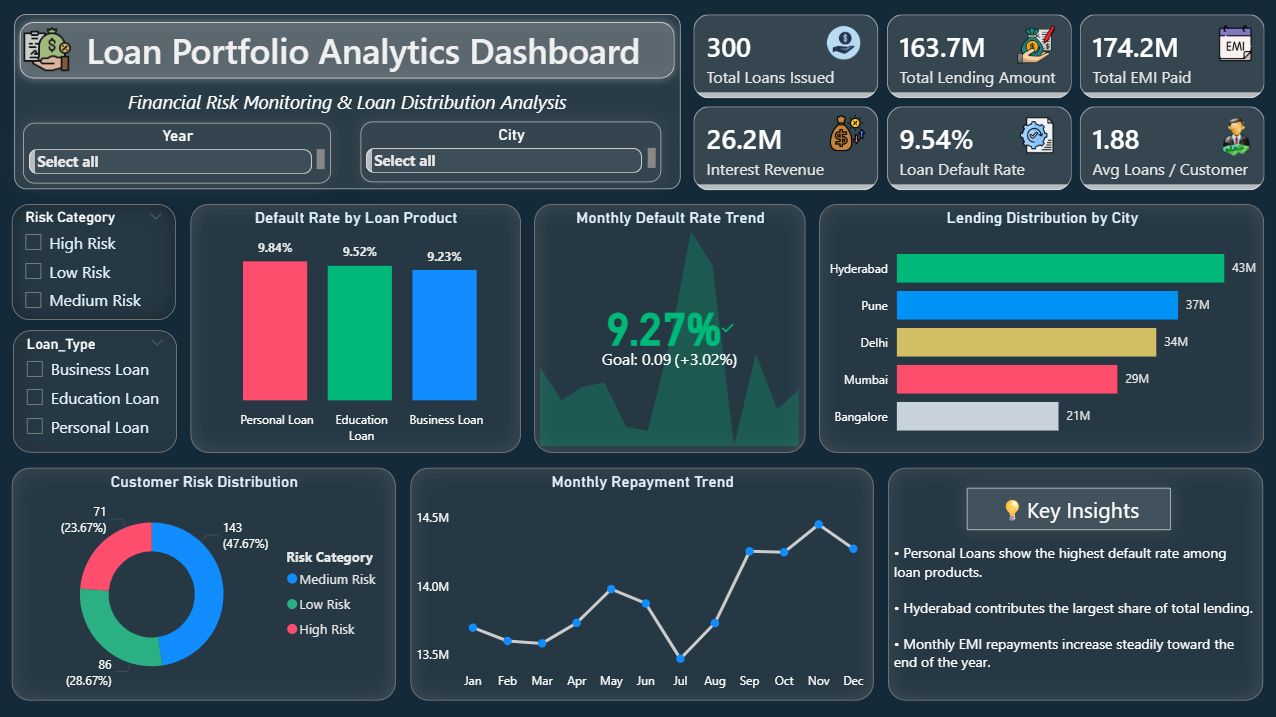

The dashboard page shown, as its layout file describes it:
{"tool":"powerbi","page":{"name":"Page 1","canvas":[1280,720],"ordinal":0},"visuals":[{"type":"shape","title":"Loan Portfolio Analytics Dashboard","box":[10.9,14.5,673,72.4],"z":0},{"type":"textbox","box":[16.2,15,666.2,175],"z":1000},{"type":"lineChart","title":"Monthly Repayment Trend","fields":{"Category":["Date_Table.Month"],"Y":["Repayments.Total EMI Paid"]},"box":[412.5,468.8,463,232.5],"z":2000},{"type":"clusteredBarChart","title":"Lending Distribution by City","fields":{"Category":["Customers.City"],"Y":["Loans.Total Loan Amount"]},"box":[821.2,205,445,248.8],"z":3000},{"type":"donutChart","title":"Customer Risk Distribution","fields":{"Category":["Customers.Risk Category"],"Y":["Loans.Total Loans"]},"box":[13.8,468.8,383.8,232.5],"z":4000},{"type":"clusteredColumnChart","title":"Default Rate by Loan Product","fields":{"Category":["Loans.Loan_Type"],"Y":["Repayments.Default Rate %"]},"box":[192.5,205,330,248.8],"z":5000},{"type":"kpi","title":"Monthly Default Rate Trend","fields":{"Indicator":["Repayments.Default Rate %"],"TrendLine":["Date_Table.Month"],"Goal":["Customers.Target Default Rate"]},"box":[536.2,205,271,248.8],"z":6000},{"type":"slicer","fields":{"Values":["Loans.Loan_Type"]},"box":[15,331.2,163.8,122.5],"z":7000},{"type":"cardVisual","fields":{"Data":["Loans.Total Loans","Loans.Total Loan Amount","Repayments.Total EMI Paid","Repayments.Total Interest","Repayments.Default Rate %","Loans.Loan Approval Rate %"]},"box":[682,2,597.2,206],"z":8000},{"type":"image","box":[821.6,25.3,48.3,37.4],"z":9000},{"type":"image","box":[1201,117,73.6,39.8],"z":10000},{"type":"image","box":[1018.2,117,39.8,37.4],"z":11000},{"type":"image","box":[821,115,56.7,38],"z":12000},{"type":"image","box":[1213.7,26.5,47.1,36.2],"z":13000},{"type":"image","box":[1006.2,26.5,63.9,38.6],"z":14000},{"type":"advancedSlicerVisual","fields":{"Values":["Date_Table.Year"]},"box":[25,123.8,308,61],"z":15000},{"type":"slicer","fields":{"Values":["Customers.Risk Category"]},"box":[13.8,205,163.8,116.2],"z":16000},{"type":"image","box":[21,6,55,87],"z":17000},{"type":"textbox","box":[890,468.8,375,232.5],"z":18000},{"type":"textbox","box":[968.8,488.8,203.8,42.5],"z":19000},{"type":"advancedSlicerVisual","fields":{"Values":["Customers.City"]},"box":[362.5,122.5,301,61],"z":20000}]}

Visuals, with their boxes in screenshot pixels (x1, y1, x2, y2), scaled from the page's 1280x720 canvas onto the 1276x717 screenshot:
"Loan Portfolio Analytics Dashboard" shape: {"x1": 11, "y1": 14, "x2": 682, "y2": 87}
textbox: {"x1": 16, "y1": 15, "x2": 680, "y2": 189}
"Monthly Repayment Trend" lineChart: {"x1": 411, "y1": 467, "x2": 873, "y2": 698}
"Lending Distribution by City" clusteredBarChart: {"x1": 819, "y1": 204, "x2": 1262, "y2": 452}
"Customer Risk Distribution" donutChart: {"x1": 14, "y1": 467, "x2": 396, "y2": 698}
"Default Rate by Loan Product" clusteredColumnChart: {"x1": 192, "y1": 204, "x2": 521, "y2": 452}
"Monthly Default Rate Trend" kpi: {"x1": 535, "y1": 204, "x2": 805, "y2": 452}
slicer - Loans.Loan_Type: {"x1": 15, "y1": 330, "x2": 178, "y2": 452}
cardVisual - Loans.Total Loans x Loans.Total Loan Amount: {"x1": 680, "y1": 2, "x2": 1275, "y2": 207}
image: {"x1": 819, "y1": 25, "x2": 867, "y2": 62}
image: {"x1": 1197, "y1": 117, "x2": 1271, "y2": 156}
image: {"x1": 1015, "y1": 117, "x2": 1055, "y2": 154}
image: {"x1": 818, "y1": 115, "x2": 875, "y2": 152}
image: {"x1": 1210, "y1": 26, "x2": 1257, "y2": 62}
image: {"x1": 1003, "y1": 26, "x2": 1067, "y2": 65}
advancedSlicerVisual - Date_Table.Year: {"x1": 25, "y1": 123, "x2": 332, "y2": 184}
slicer - Customers.Risk Category: {"x1": 14, "y1": 204, "x2": 177, "y2": 320}
image: {"x1": 21, "y1": 6, "x2": 76, "y2": 93}
textbox: {"x1": 887, "y1": 467, "x2": 1261, "y2": 698}
textbox: {"x1": 966, "y1": 487, "x2": 1169, "y2": 529}
advancedSlicerVisual - Customers.City: {"x1": 361, "y1": 122, "x2": 661, "y2": 183}
